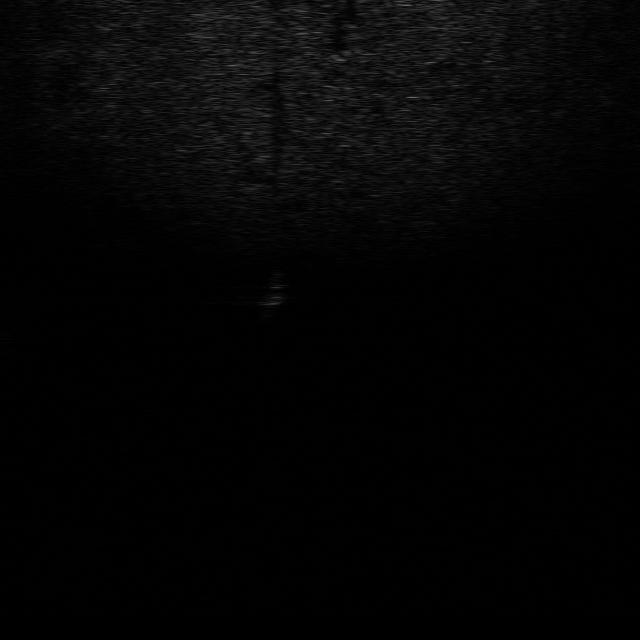human body: (254, 268, 290, 326)
